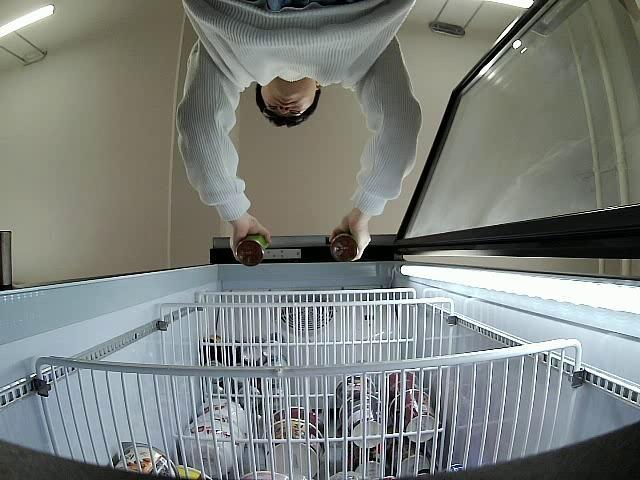19_17cha: (235, 232, 271, 265), (332, 233, 362, 260)
